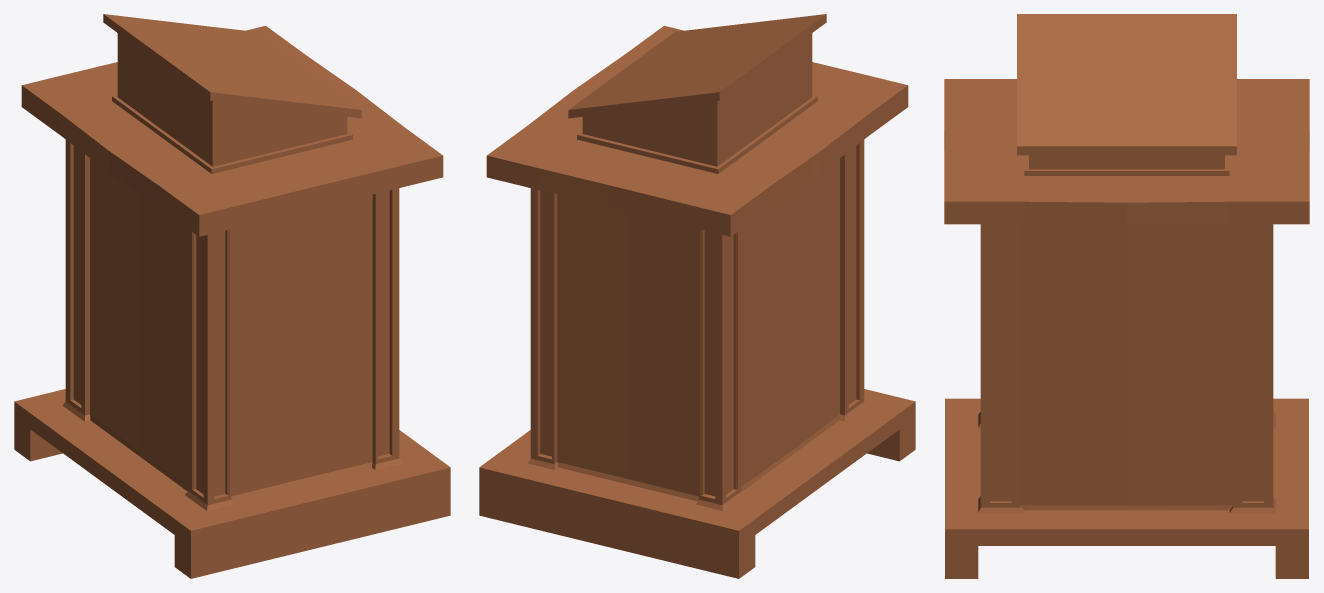
File: pulpito.fbx
3 renders of one model, left to right at view 1: azimuth 30°, elevation 25°; view 2: azimuth 150°, elevation 25°; view 3: azimuth 270°, elevation 25°, orthographic. The views are drawn at different scales.
Visible parts, largest first — view 1: Cube.001; view 2: Cube.001; view 3: Cube.001.
Boxes of the visible parts, <box> form: Cube.001: <box>14,14,450,578</box>; Cube.001: <box>479,14,915,578</box>; Cube.001: <box>944,14,1309,578</box>.
Bounding box in the file's own units: 89.29 × 147 × 106.
